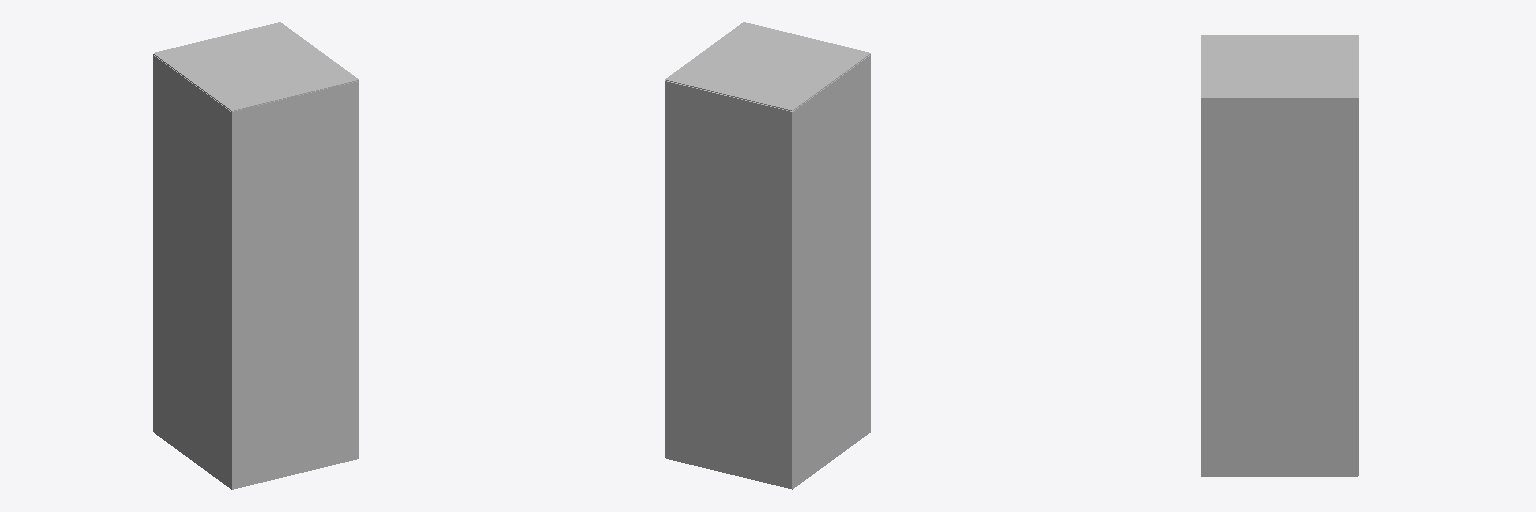
The model's file is edificio2.obj.
3 views of the same model, side by side, from view 1: azimuth 30°, elevation 25°; view 2: azimuth 150°, elevation 25°; view 3: azimuth 270°, elevation 25° (orthographic).
Parts seen in each view (by area): view 1: Maqueta:polySurface9; view 2: Maqueta:polySurface9; view 3: Maqueta:polySurface9.
Boxes of the visible parts, x1,y1,x2,y2 form: Maqueta:polySurface9: [153, 22, 358, 489]; Maqueta:polySurface9: [665, 22, 870, 489]; Maqueta:polySurface9: [1201, 35, 1358, 476].
Bounding box in the file's own units: 2.02 × 5.73 × 2.16.